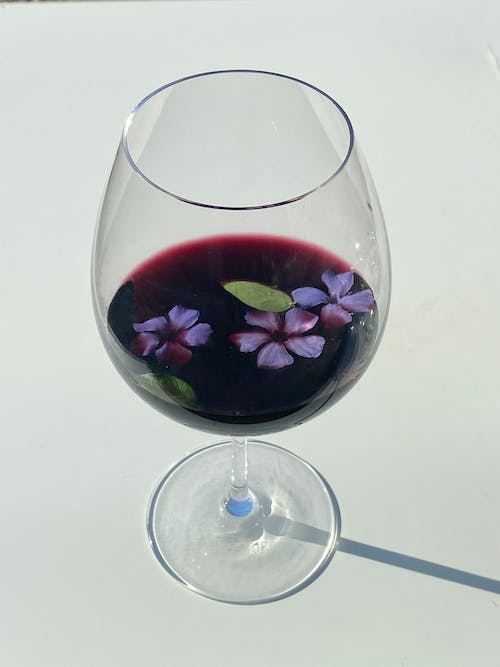alcohol: (87, 67, 393, 609)
